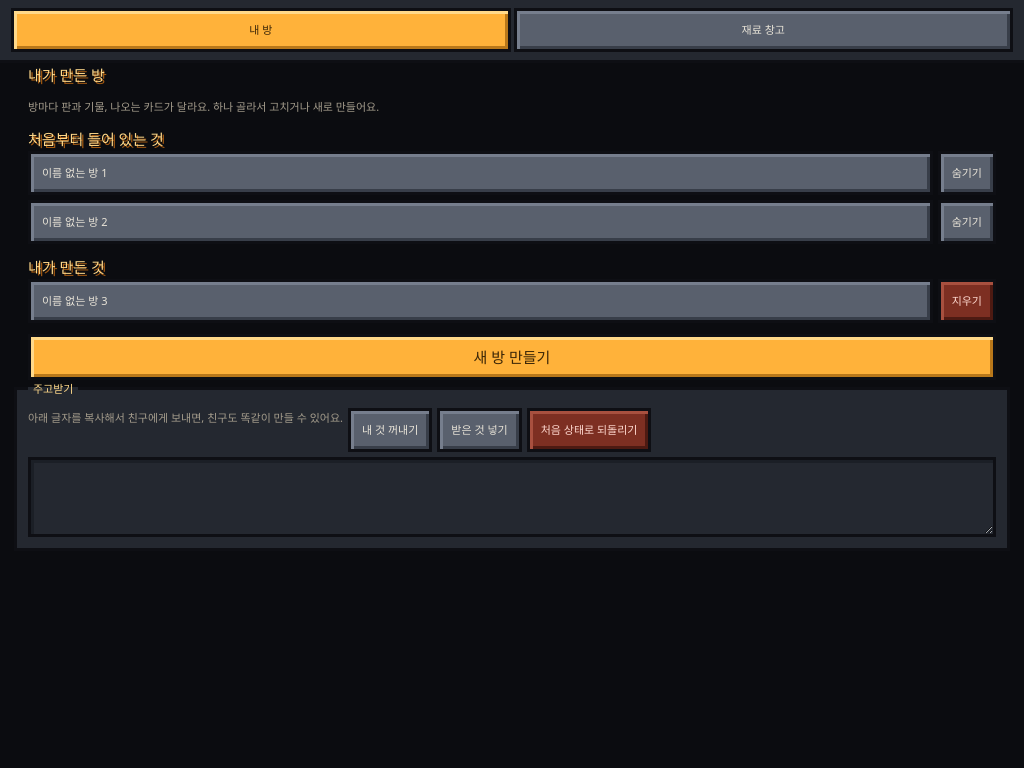
Test: the room list offers hide for ours, delete for theirs › refuses to hide the last VISIBLE room, with the same sentence a refused delete uses
Note: Three rooms: preset.ours, preset.spare (official), preset.mine (authored).
Click the button with test id "room-hide-preset.spare": [967, 222] box [938, 200, 996, 244]
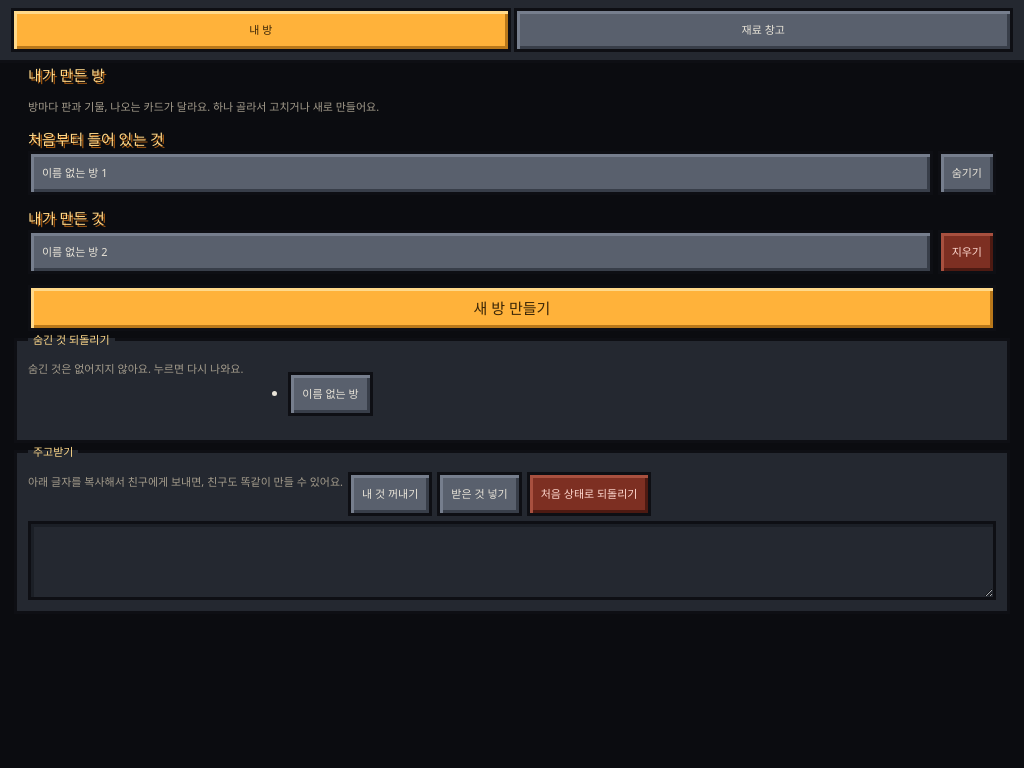
Click the button with test id "room-delete-preset.mine": [967, 252] box [938, 230, 996, 274]
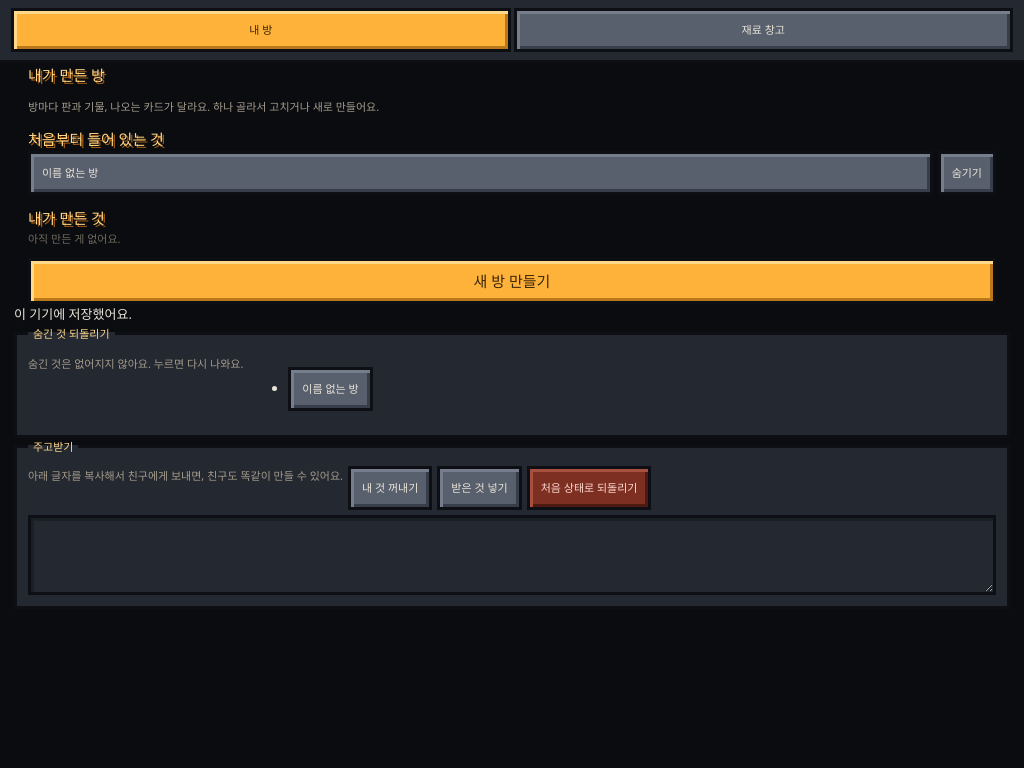
Note: One room left. Hiding it must be refused.
Click the button with test id "room-hide-preset.ours": [967, 173] box [938, 151, 996, 195]
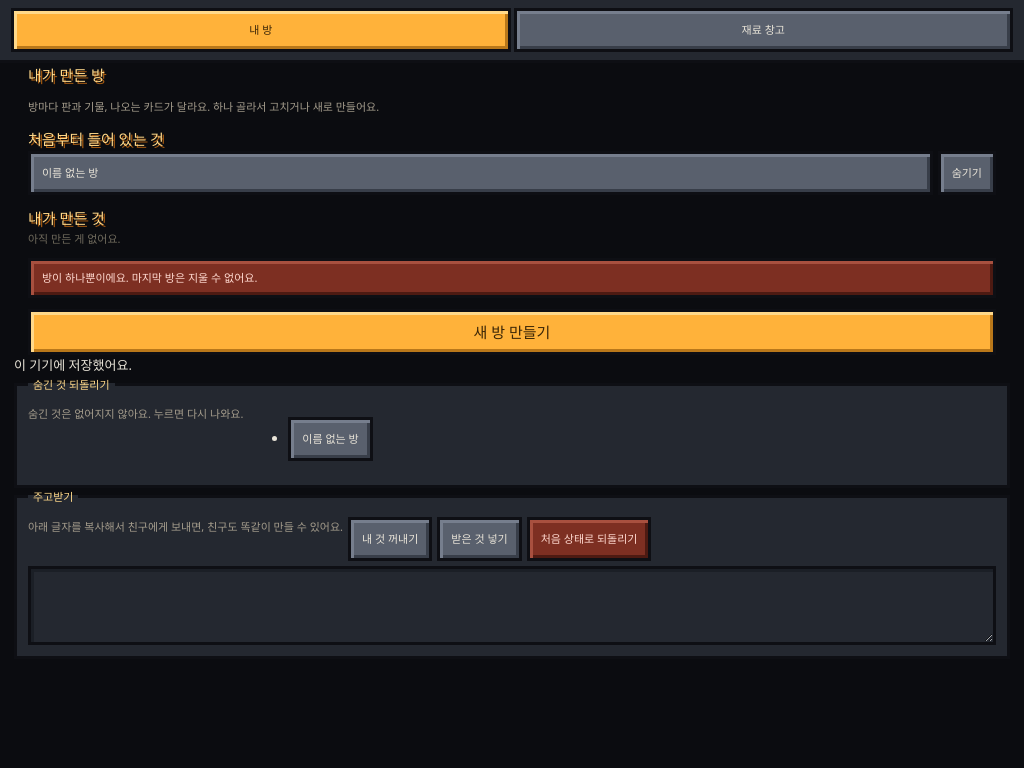
Check: the button with test id "room-open-preset.ours" is shown, box [28, 151, 933, 195]
Check: the text with test id "room-delete-refusal" shows "마지막", box [42, 270, 257, 285]
